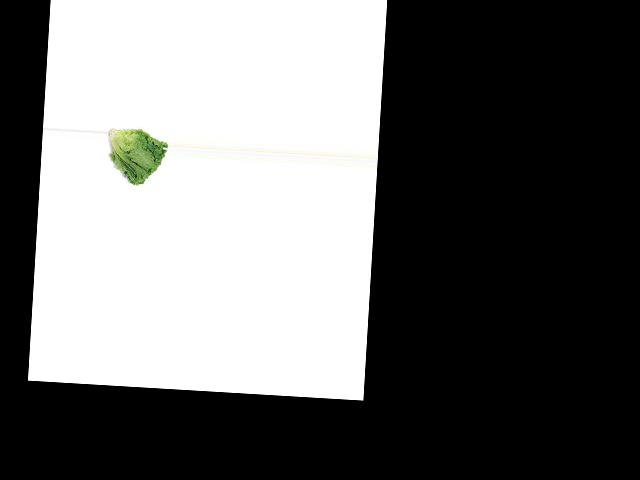lettuce: (103, 122, 168, 192)
